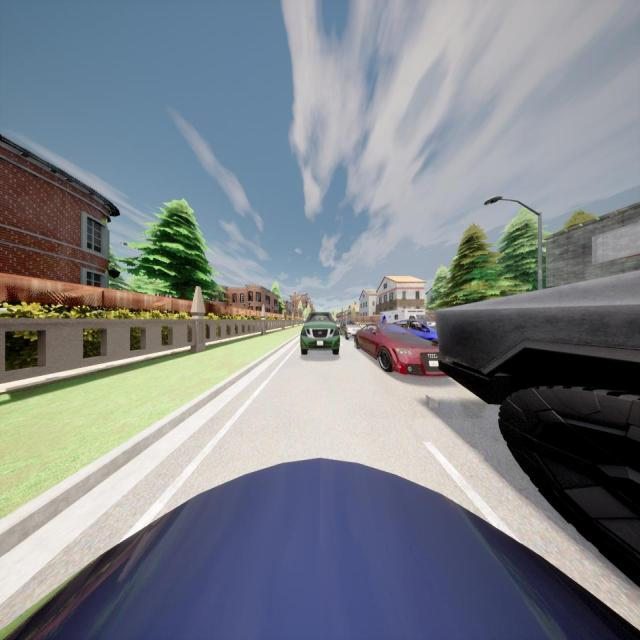Vehicle: (0, 458, 640, 640), (436, 285, 640, 572), (355, 323, 449, 377), (300, 312, 340, 354), (383, 320, 437, 340), (380, 309, 436, 328), (341, 320, 362, 340)
